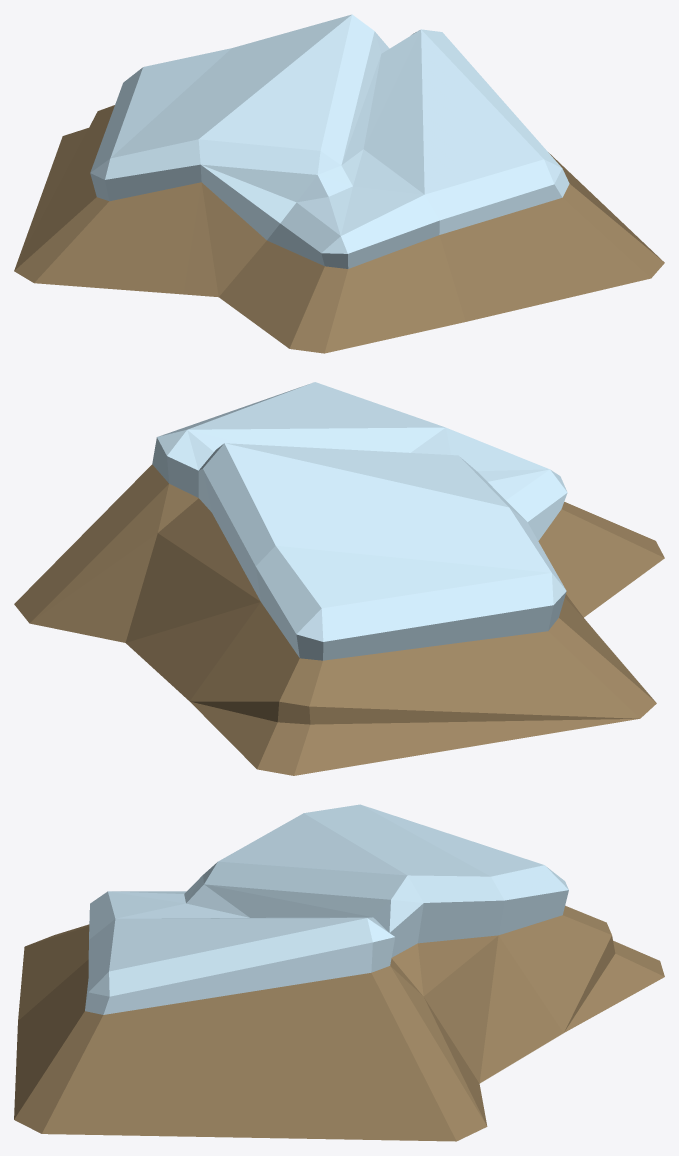
File: model_polytope_snow_rock.fbx
3 renders of one model, top to bottom at view 1: azimuth 30°, elevation 25°; view 2: azimuth 150°, elevation 25°; view 3: azimuth 270°, elevation 25°, orthographic. The views are drawn at different scales.
Visible parts, largest first — view 1: model_polytope_snow_rock; view 2: model_polytope_snow_rock; view 3: model_polytope_snow_rock.
Part boxes in pixels (x1,y1,x2,y2): model_polytope_snow_rock: (14, 14, 664, 353); model_polytope_snow_rock: (14, 382, 664, 775); model_polytope_snow_rock: (14, 804, 664, 1141).
Bounding box in the file's own units: 1163 × 355 × 1165.
1 material, 1 textured.
